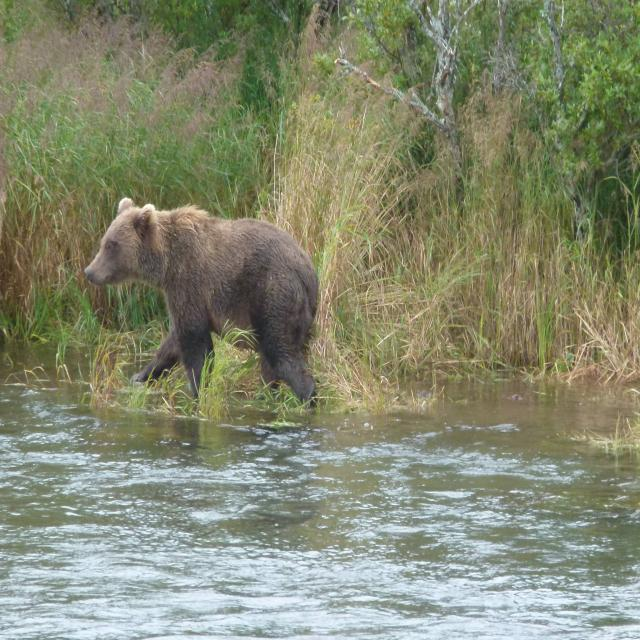bear face: (84, 196, 316, 398)
